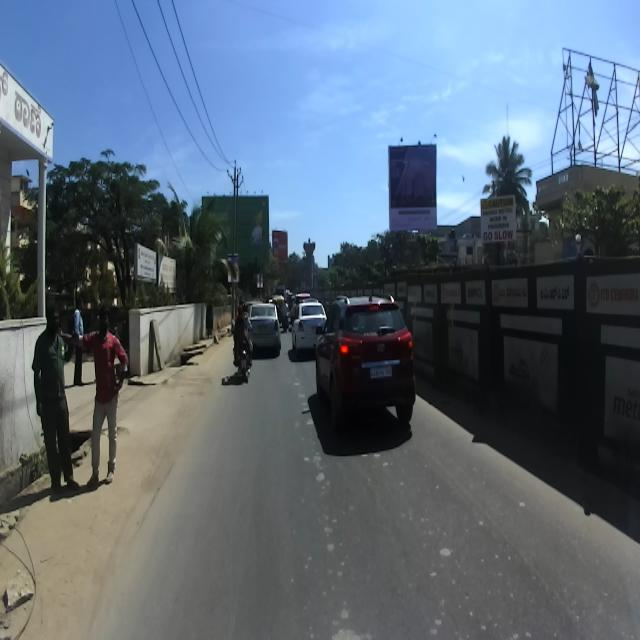car ahead at: (310, 292, 417, 441)
person ahead at: (32, 296, 127, 499)
